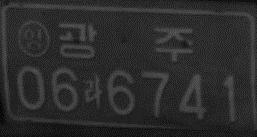0: (15, 64, 46, 111)
1: (216, 74, 245, 122)
4: (177, 74, 207, 120)
6: (49, 65, 80, 113), (107, 68, 137, 117)
7: (140, 69, 168, 118)
광주_D: (57, 22, 195, 64)
라: (82, 73, 104, 109)
영: (17, 19, 51, 58)
